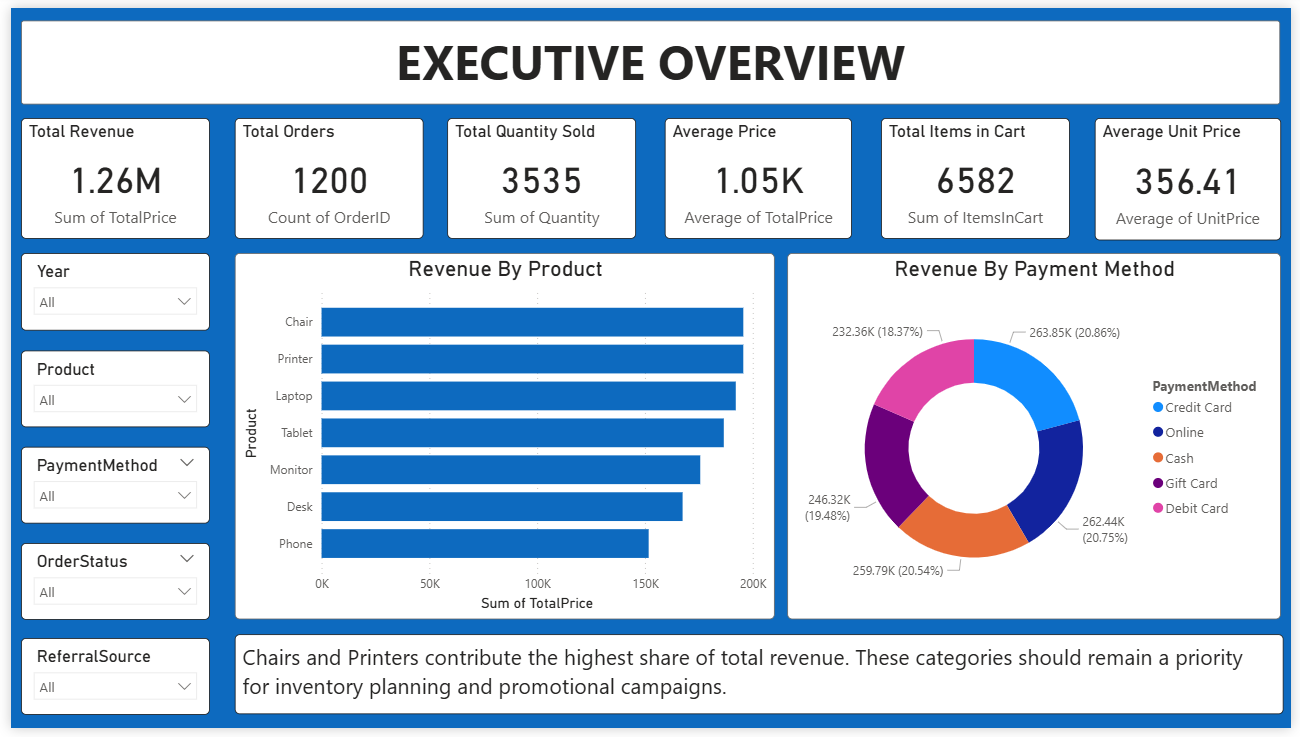

This screenshot's page, from the dashboard's own definition file:
{"tool":"powerbi","page":{"name":"Page 1","canvas":[1280,720],"ordinal":0},"visuals":[{"type":"textbox","box":[10.1,13,1259.5,83.7],"z":0},{"type":"card","title":"Average Unit Price","fields":{"Values":["Avg(E-Commerce Orders.UnitPrice)"]},"box":[1083.5,109.6,186.1,122.6],"z":1000},{"type":"card","title":"Total Items in Cart","fields":{"Values":["Sum(E-Commerce Orders.ItemsInCart)"]},"box":[870,109.6,189,121.2],"z":2000},{"type":"card","title":"Average Price","fields":{"Values":["Avg(E-Commerce Orders.TotalPrice)"]},"box":[653.6,109.6,187.6,121.2],"z":3000},{"type":"card","title":"Total Quantity Sold","fields":{"Values":["Sum(E-Commerce Orders.Quantity)"]},"box":[435.7,109.6,189,121.2],"z":4000},{"type":"card","title":"Total Orders","fields":{"Values":["CountNonNull(E-Commerce Orders.OrderID)"]},"box":[223.6,109.6,189,121.2],"z":5000},{"type":"card","title":"Total Revenue","fields":{"Values":["Sum(E-Commerce Orders.TotalPrice)"]},"box":[10.1,109.6,189,121.2],"z":6000},{"type":"barChart","title":"Revenue By Product","fields":{"Category":["E-Commerce Orders.Product"],"Y":["Sum(E-Commerce Orders.TotalPrice)"]},"box":[223.8,245,540,366.2],"z":7000},{"type":"donutChart","title":"Revenue By Payment Method","fields":{"Category":["E-Commerce Orders.PaymentMethod"],"Y":["Sum(E-Commerce Orders.TotalPrice)"]},"box":[776.7,245,493.3,366.7],"z":8000},{"type":"textbox","box":[223.8,626.2,1048.8,80],"z":9000},{"type":"slicer","fields":{"Values":["E-Commerce Orders.Date.Variation.Date Hierarchy.Year"]},"box":[10,245,188.8,77.5],"z":10000},{"type":"slicer","fields":{"Values":["E-Commerce Orders.Product"]},"box":[10,342.2,188.9,76.7],"z":11000},{"type":"slicer","fields":{"Values":["E-Commerce Orders.PaymentMethod"]},"box":[10,438.9,188.9,76.7],"z":12000},{"type":"slicer","fields":{"Values":["E-Commerce Orders.OrderStatus"]},"box":[10,535.6,188.9,76.7],"z":13000},{"type":"slicer","fields":{"Values":["E-Commerce Orders.ReferralSource"]},"box":[10,630,188.9,76.7],"z":14000}]}

Visuals, with their boxes in screenshot pixels (x1, y1, x2, y2), scaled from the page's 1280x720 canvas onto the 1300x737 screenshot:
textbox: box=[10, 13, 1289, 99]
"Average Unit Price" card: box=[1100, 112, 1289, 238]
"Total Items in Cart" card: box=[884, 112, 1076, 236]
"Average Price" card: box=[664, 112, 854, 236]
"Total Quantity Sold" card: box=[443, 112, 634, 236]
"Total Orders" card: box=[227, 112, 419, 236]
"Total Revenue" card: box=[10, 112, 202, 236]
"Revenue By Product" barChart: box=[227, 251, 776, 626]
"Revenue By Payment Method" donutChart: box=[789, 251, 1290, 626]
textbox: box=[227, 641, 1292, 723]
slicer - E-Commerce Orders.Date.Variation.Date Hierarchy.Year: box=[10, 251, 202, 330]
slicer - E-Commerce Orders.Product: box=[10, 350, 202, 429]
slicer - E-Commerce Orders.PaymentMethod: box=[10, 449, 202, 528]
slicer - E-Commerce Orders.OrderStatus: box=[10, 548, 202, 627]
slicer - E-Commerce Orders.ReferralSource: box=[10, 645, 202, 723]
